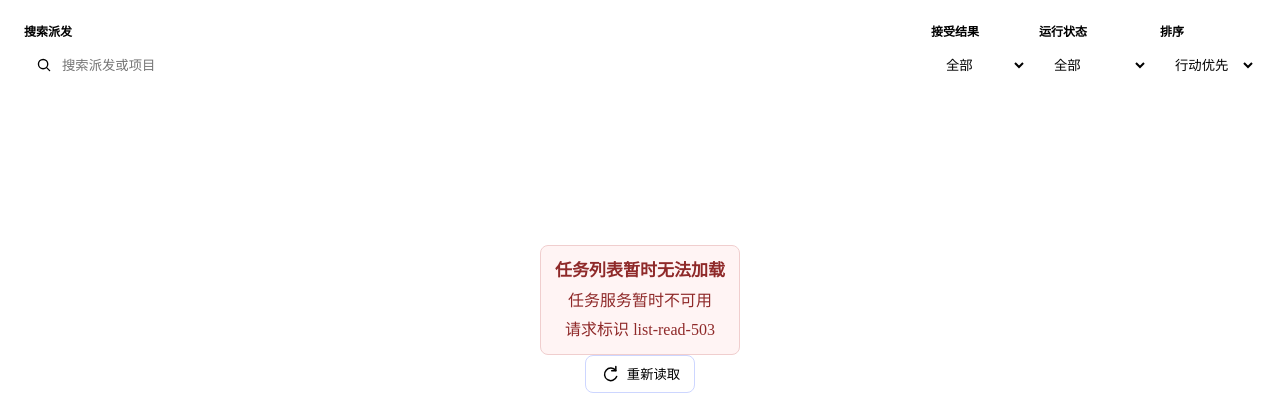
Test case: 中文识别任务 › 列表稳定失败显示本次请求标识，唯一重读成功后聚焦状态消息
Expected: the text "任务列表暂时无法加载" is shown, [555, 258, 725, 284]
Expected: the text "请求标识 list-read-503" is shown, [555, 318, 725, 342]
Click the button "重新读取": x=640, y=374 [585, 355, 695, 393]
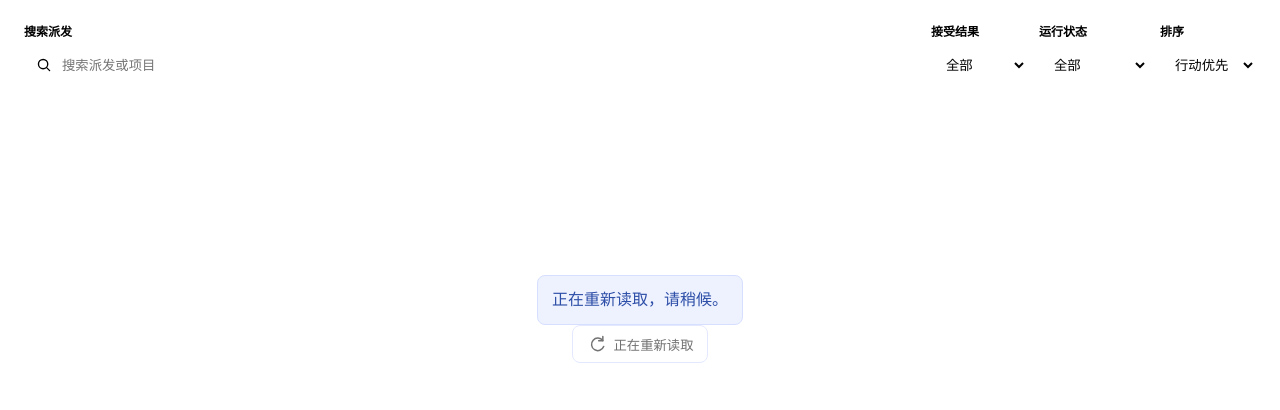
Now the button "正在重新读取" is disabled
Click the button "正在重新读取": x=640, y=344 [572, 325, 708, 363]
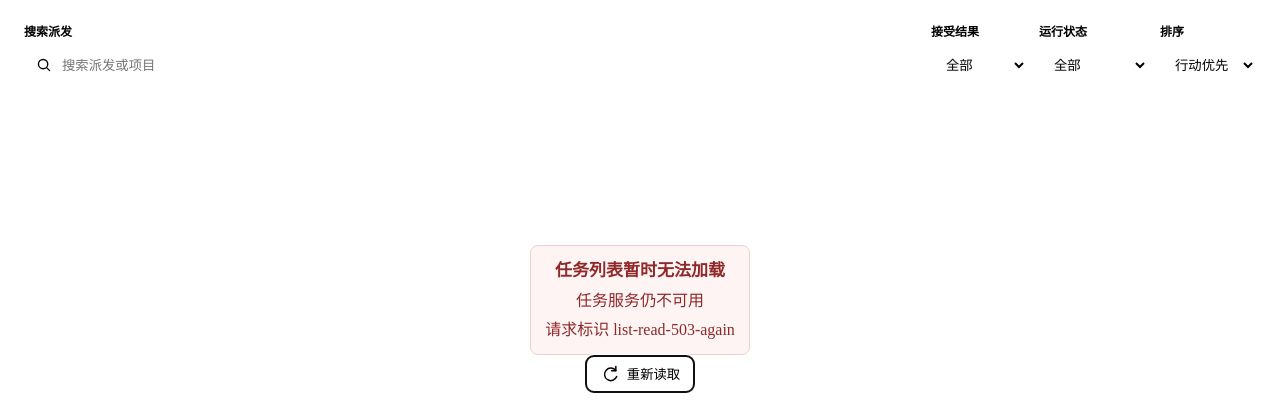
Now the text "请求标识 list-read-503-again" is shown, box [545, 318, 735, 342]
Click the button "重新读取": x=640, y=374 [585, 355, 695, 393]
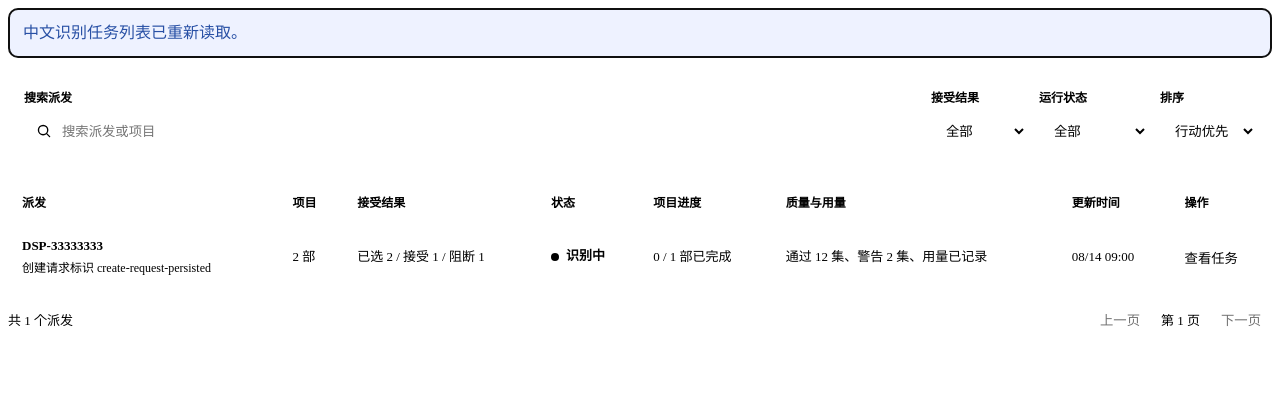
Now the text "中文识别任务列表已重新读取。" is shown, box [8, 8, 1272, 58]
Now the text "创建请求标识 create-request-persisted" is shown, box [22, 261, 211, 275]
